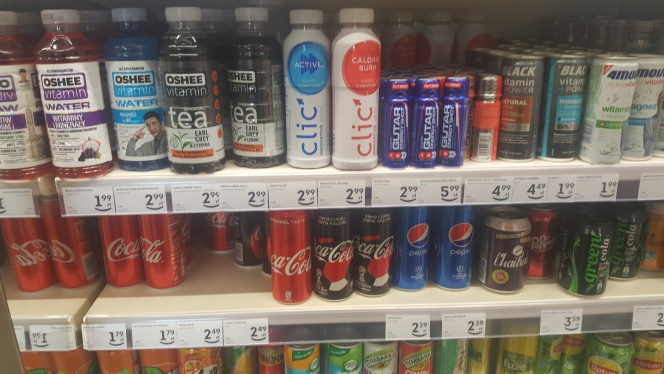cola: (40, 198, 95, 286), (1, 201, 50, 292), (270, 209, 310, 304), (138, 212, 185, 285), (99, 214, 139, 287), (206, 210, 231, 252)
colazero: (358, 208, 397, 302), (315, 208, 355, 298), (232, 211, 262, 267)
pepsi: (431, 204, 476, 292), (397, 204, 433, 304)
